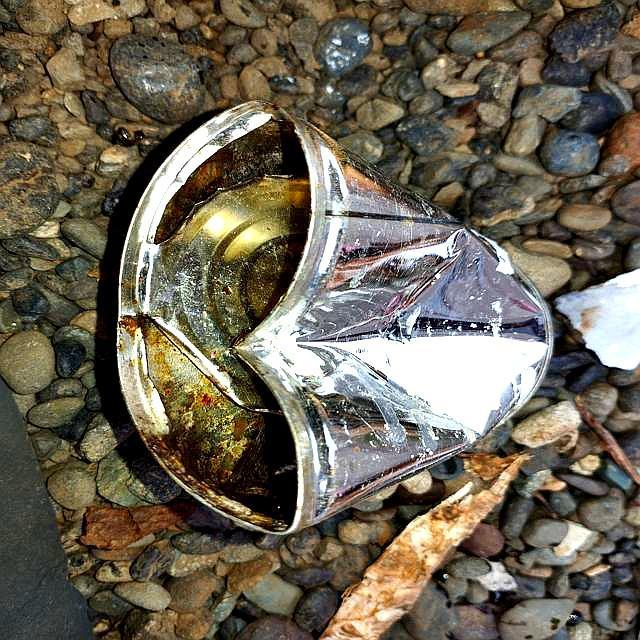Non-biodegradable: (109, 99, 556, 538)
